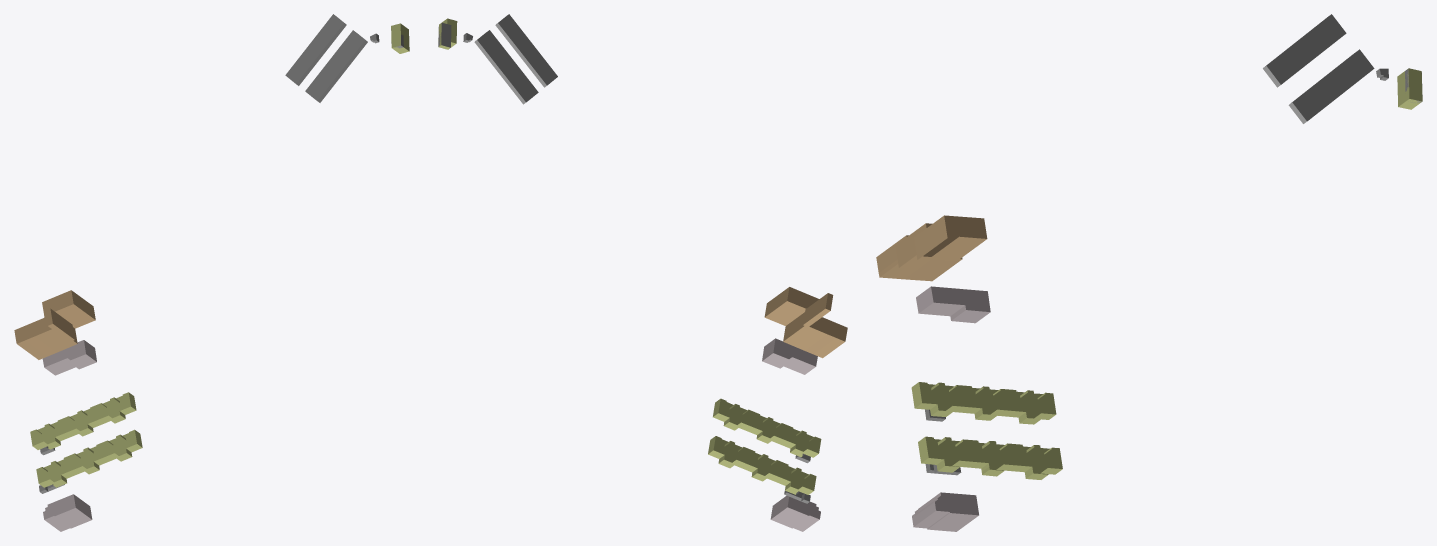
3 views of the same model, side by side, from view 1: azimuth 30°, elevation 25°; view 2: azimuth 150°, elevation 25°; view 3: azimuth 330°, elevation 25° (orthographic). The views are drawn at different scales.
Parts seen in each view (by area): view 1: 0_1_2_0_3_0; view 2: 0_1_2_0_3_0; view 3: 0_1_2_0_3_0.
Part boxes in pixels (bbox=[...]): 0_1_2_0_3_0: bbox=[14, 14, 409, 531]; 0_1_2_0_3_0: bbox=[438, 14, 847, 531]; 0_1_2_0_3_0: bbox=[876, 14, 1422, 531].
Size of the model in its own units: 239 by 260 by 33.09.
